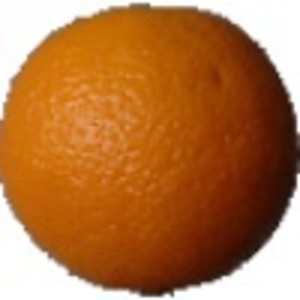laranja: (4, 5, 296, 294)
